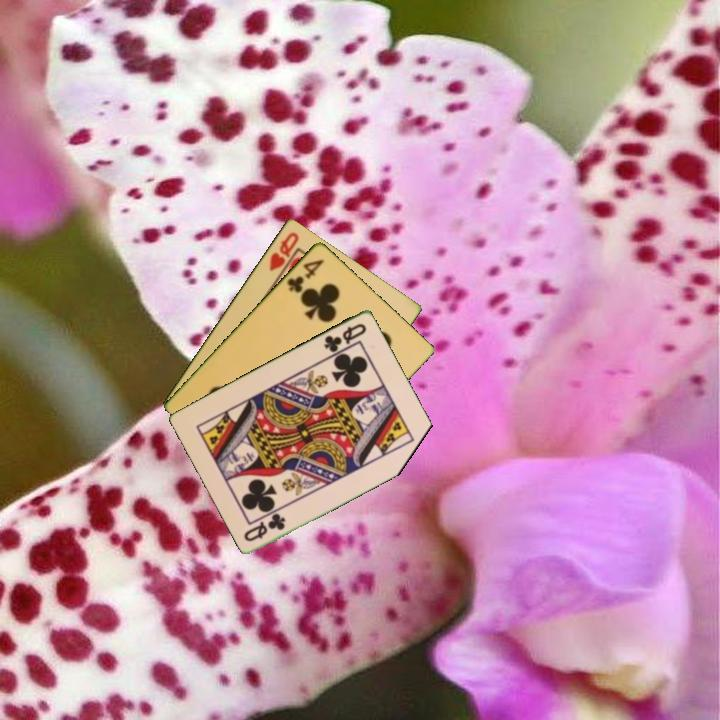4c: (283, 255, 327, 295)
Qc: (320, 319, 370, 355), (240, 510, 289, 544)
Qh: (265, 228, 302, 274)
